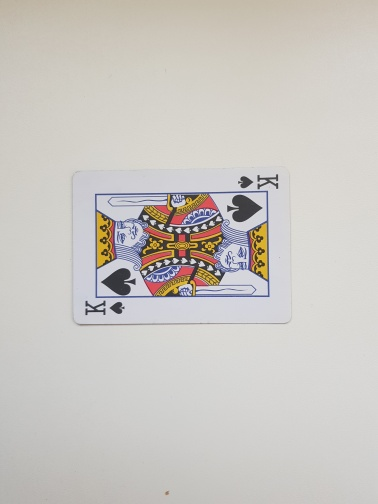king: (70, 167, 293, 326)
